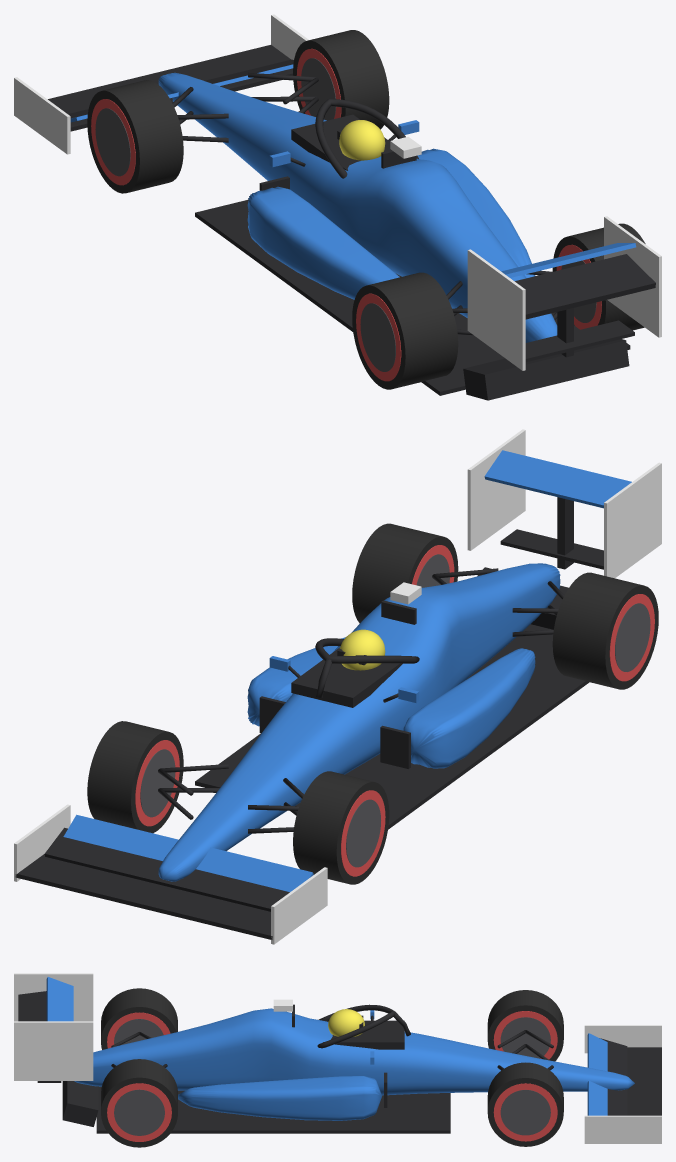
Rendered from car.glb.
3 views of the same model, one above another, from view 1: azimuth 30°, elevation 25°; view 2: azimuth 150°, elevation 25°; view 3: azimuth 270°, elevation 25° (orthographic). The views are drawn at different scales.
Visible parts, largest first — view 1: Chassis, Wheel_RL, Wheel_FL, Wheel_FR, Wheel_RR; view 2: Chassis, Wheel_RL, Wheel_FL, Wheel_FR, Wheel_RR; view 3: Chassis, Wheel_RR, Wheel_FR, Wheel_FL, Wheel_RL.
Boxes of the visible parts, left/top/right/bottom form: Chassis: left=14, top=14, right=661, bottom=400; Wheel_RL: left=352, top=272, right=458, bottom=389; Wheel_FL: left=87, top=80, right=183, bottom=193; Wheel_FR: left=293, top=30, right=389, bottom=129; Wheel_RR: left=552, top=223, right=645, bottom=330; Chassis: left=14, top=429, right=661, bottom=944; Wheel_RL: left=552, top=572, right=658, bottom=689; Wheel_FL: left=293, top=771, right=389, bottom=884; Wheel_FR: left=87, top=721, right=183, bottom=833; Wheel_RR: left=352, top=523, right=458, bottom=623; Chassis: left=14, top=973, right=661, bottom=1143; Wheel_RR: left=101, top=1059, right=177, bottom=1147; Wheel_FR: left=487, top=1062, right=563, bottom=1146; Wheel_FL: left=487, top=990, right=563, bottom=1061; Wheel_RL: left=101, top=988, right=177, bottom=1049.
Size of the model in its own units: 2.02 by 1.08 by 6.04.
